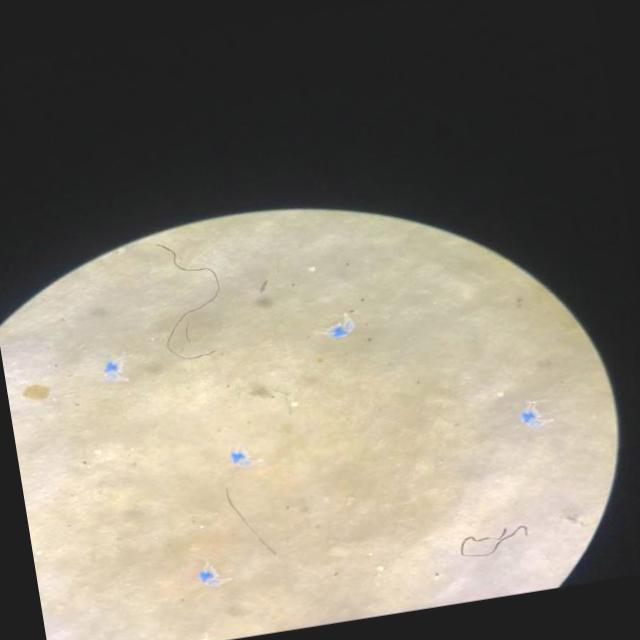fiber: (156, 242, 219, 358), (227, 488, 276, 555), (461, 525, 529, 558)
film: (105, 355, 129, 380), (521, 404, 552, 421), (200, 573, 231, 587), (231, 453, 255, 467), (325, 330, 354, 339)
fragment: (24, 384, 49, 400)
pellet: (376, 565, 385, 575), (94, 449, 101, 456), (310, 266, 316, 272), (497, 391, 503, 396), (292, 402, 297, 407)
